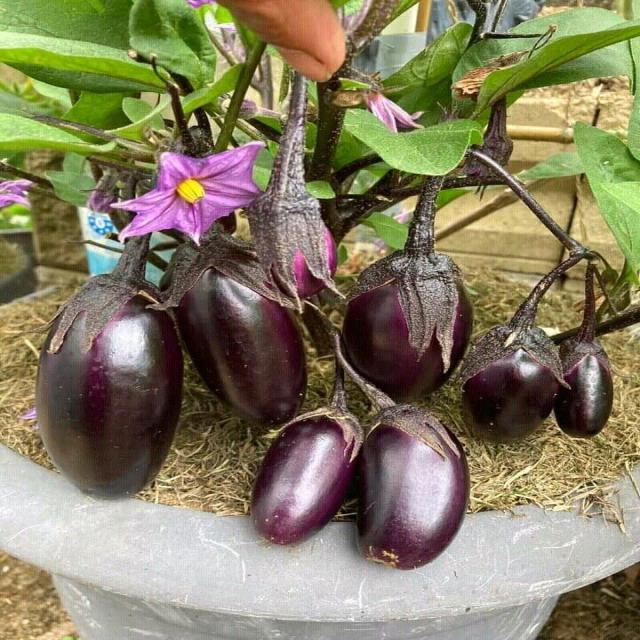eggplant: (34, 231, 183, 499), (333, 172, 476, 402), (458, 256, 583, 441), (248, 367, 362, 543)
